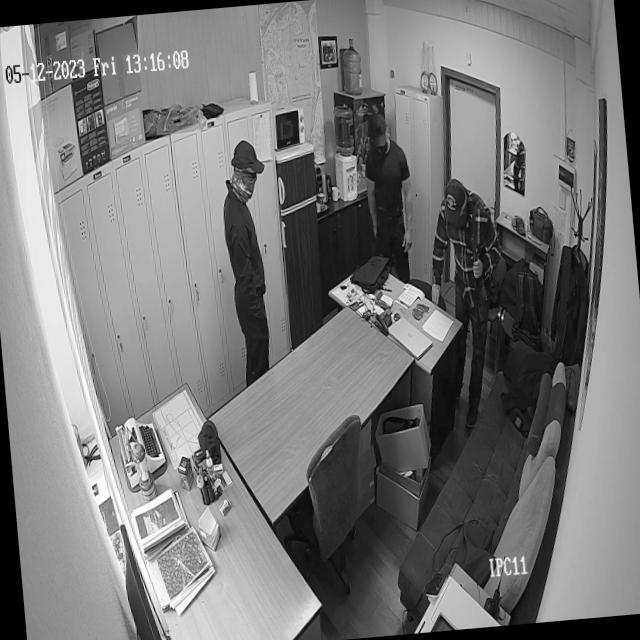gun: (463, 233, 493, 358)
person: (209, 134, 281, 395), (363, 120, 418, 283)
person with a gun: (422, 174, 512, 395)
